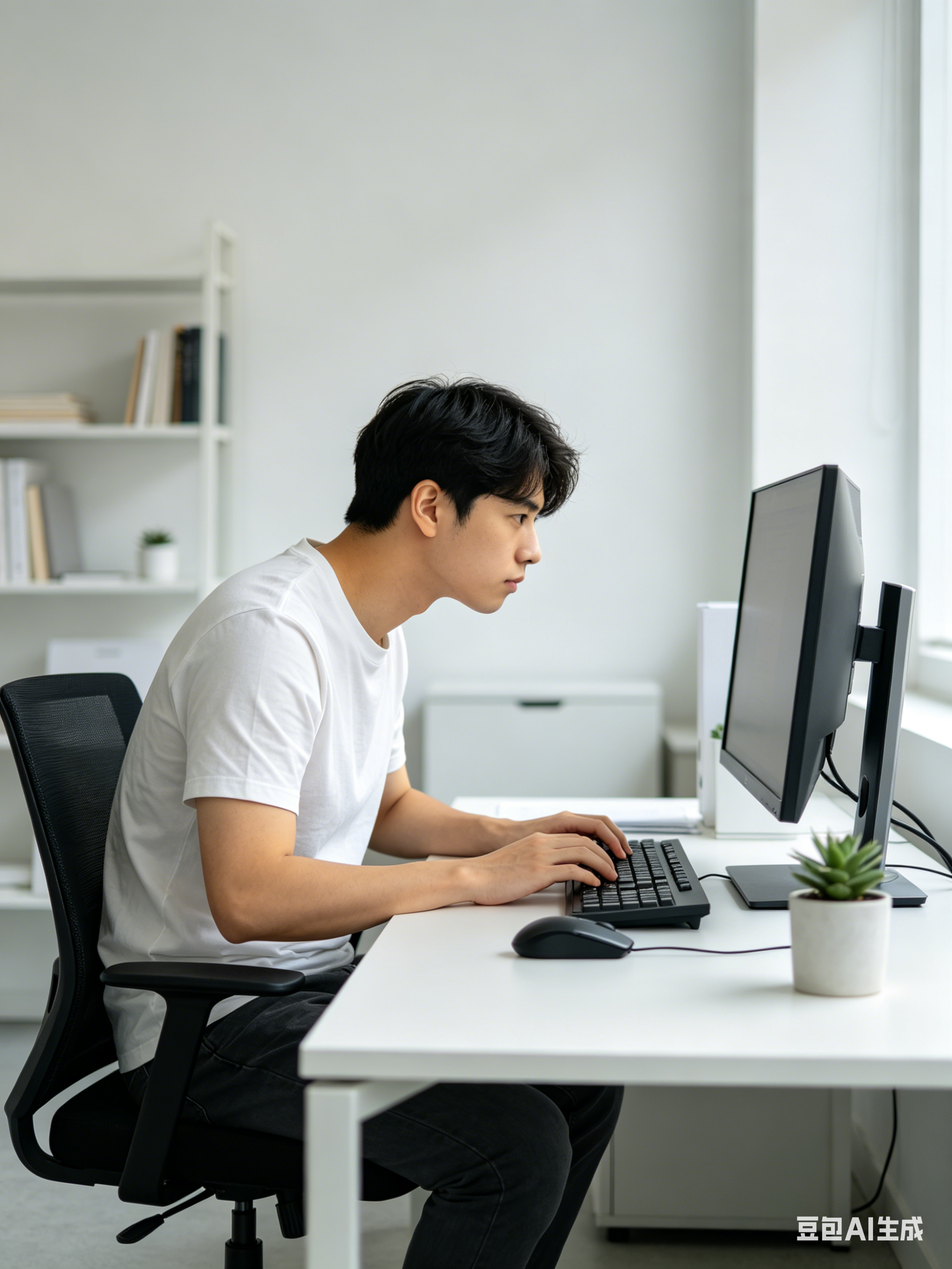sitting_bad: (86, 375, 633, 1243)
